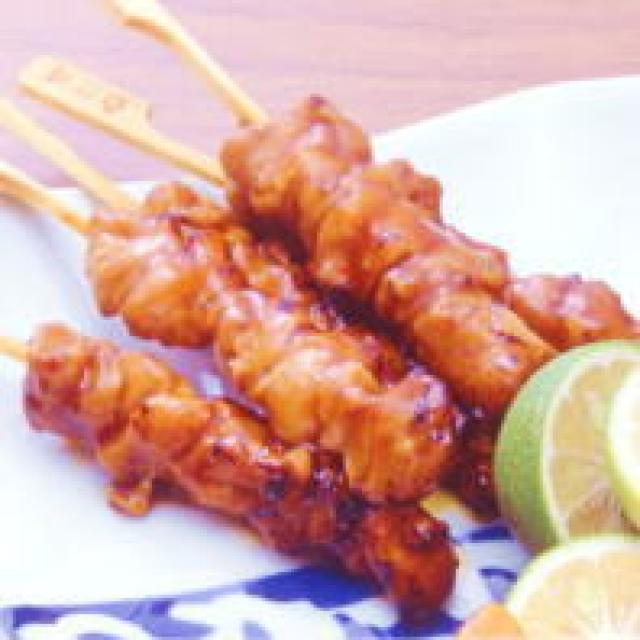烧串烤肉: (0, 0, 478, 617)
